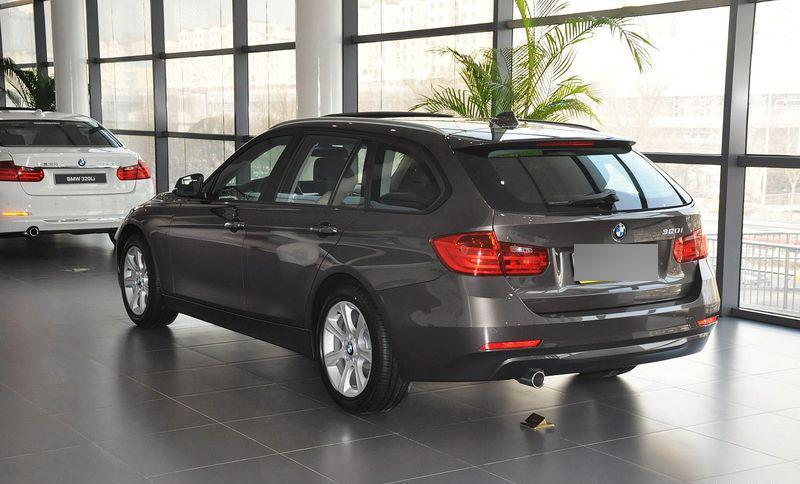Wagon: (113, 109, 722, 416)
